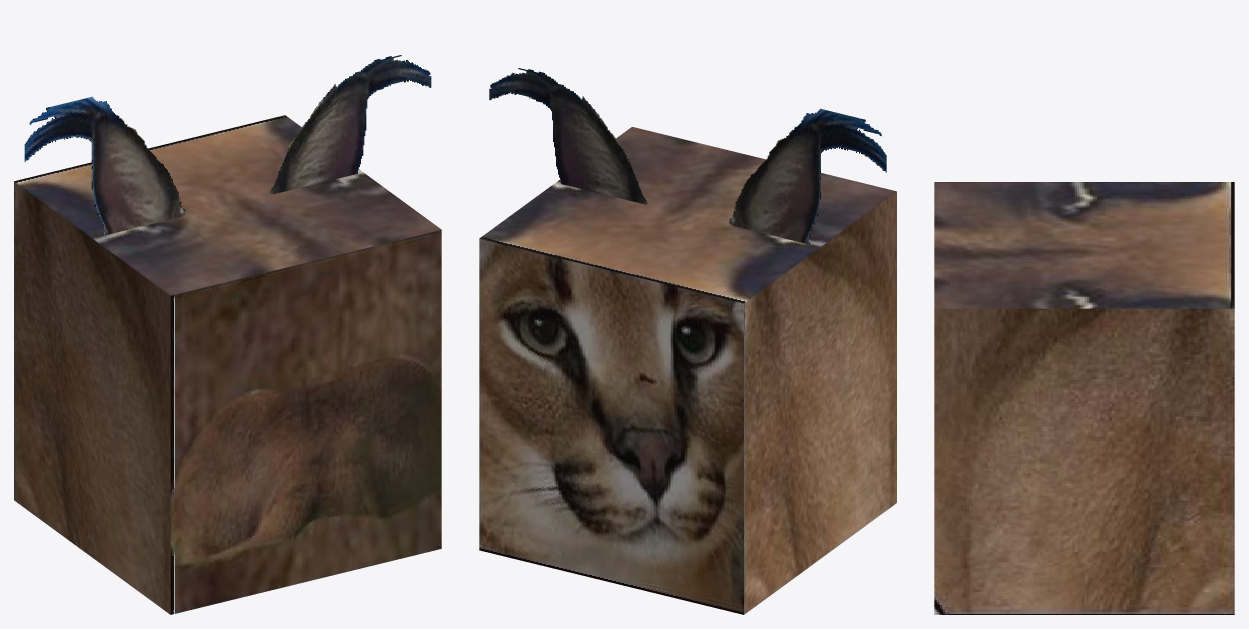
3 renders of one model, left to right at view 1: azimuth 30°, elevation 25°; view 2: azimuth 150°, elevation 25°; view 3: azimuth 270°, elevation 25°, orthographic. The views are drawn at different scales.
Visible parts, largest first — view 1: cube (×2); view 2: cube (×2); view 3: cube.
Boxes of the visible parts, x1,y1,x2,y2 form: cube (×2): (14, 55, 441, 614); cube (×2): (479, 68, 896, 614); cube: (934, 182, 1234, 614).
Bounding box in the file's own units: 0.75 × 0.8125 × 0.5.
Materials: 2 (2 with a texture image).
